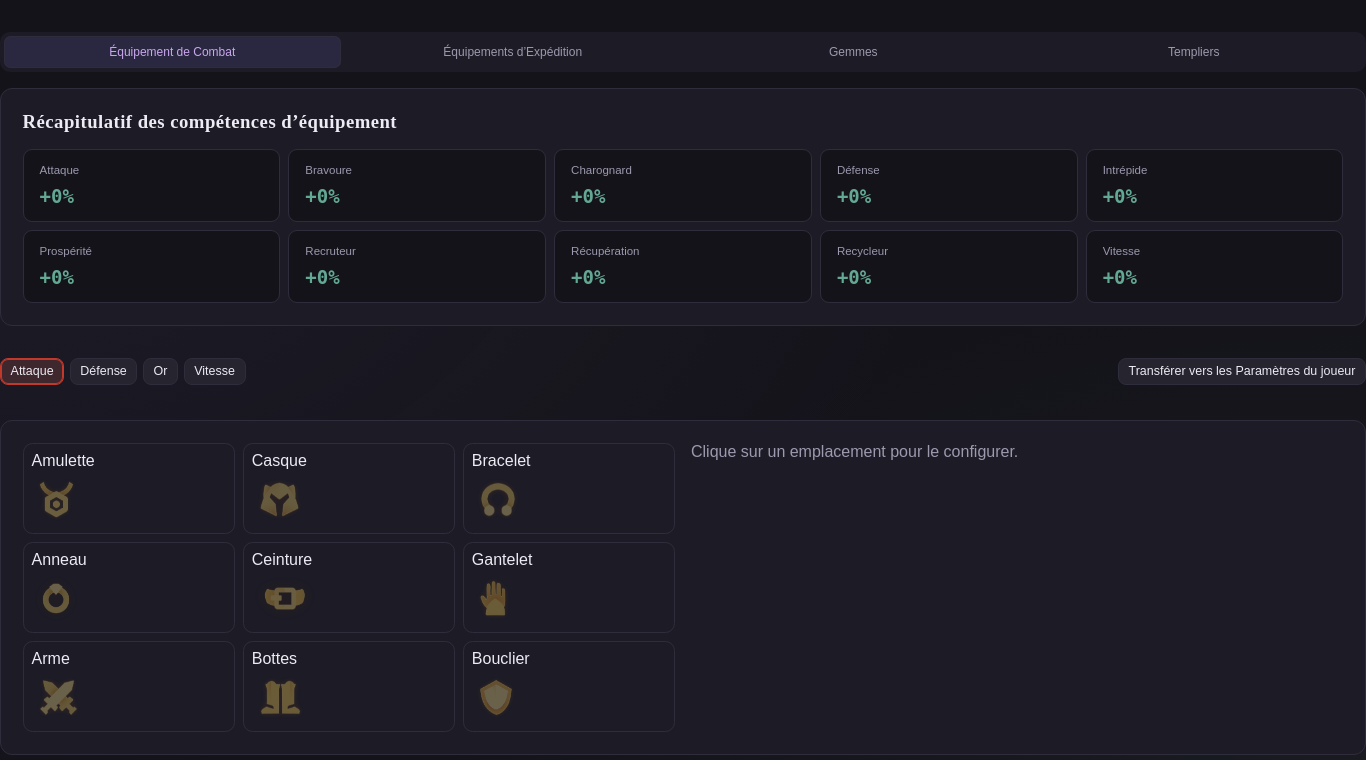
it: SkillsCalculators › uses the administrator-provided named Gem parameters
The width and height of the screenshot is (1366, 760).
Click the tab "Gemmes".
click(853, 52)  # box [685, 36, 1022, 68]
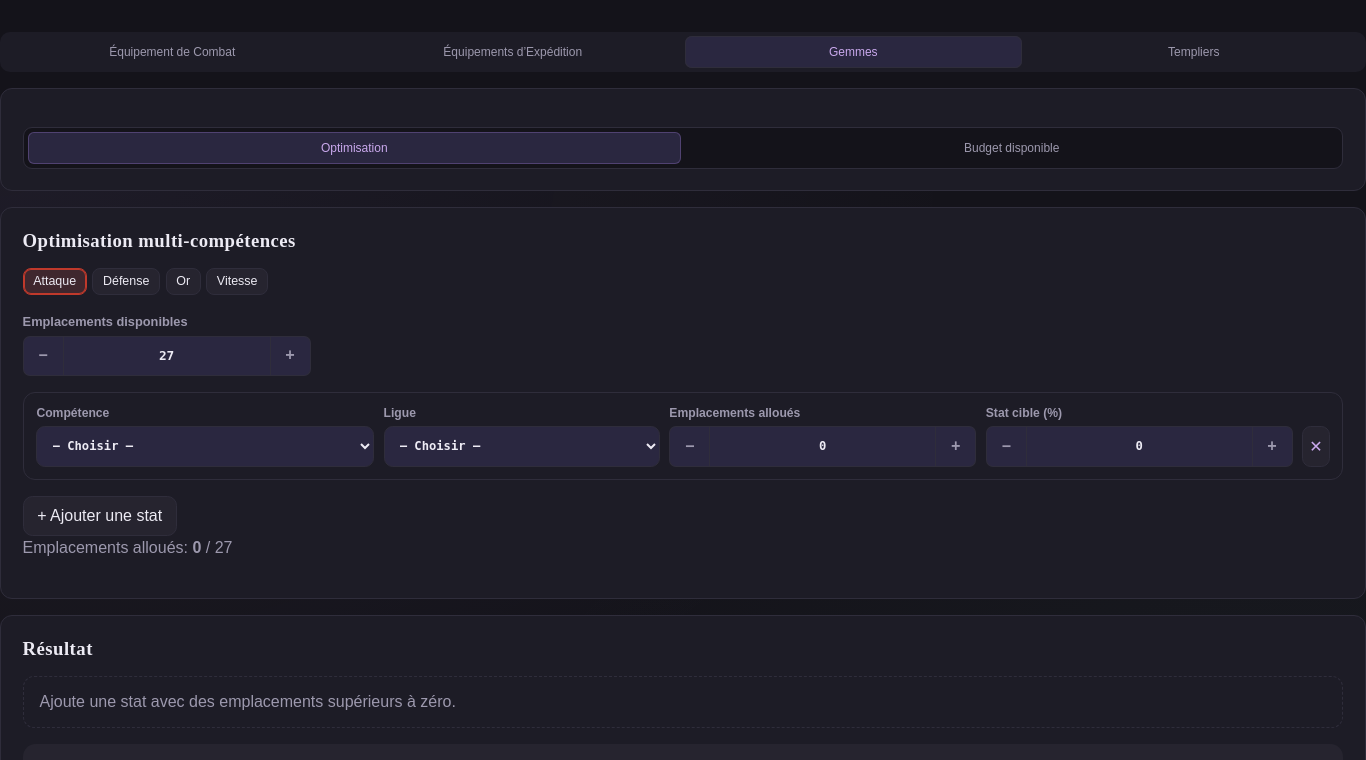
Note: Bloc 82/D: no skill pre-selected any more — pick one explicitly.
Select "Attaque" in the dropdown named "Compétence ligne 1" at (205, 446), box [36, 426, 374, 466]
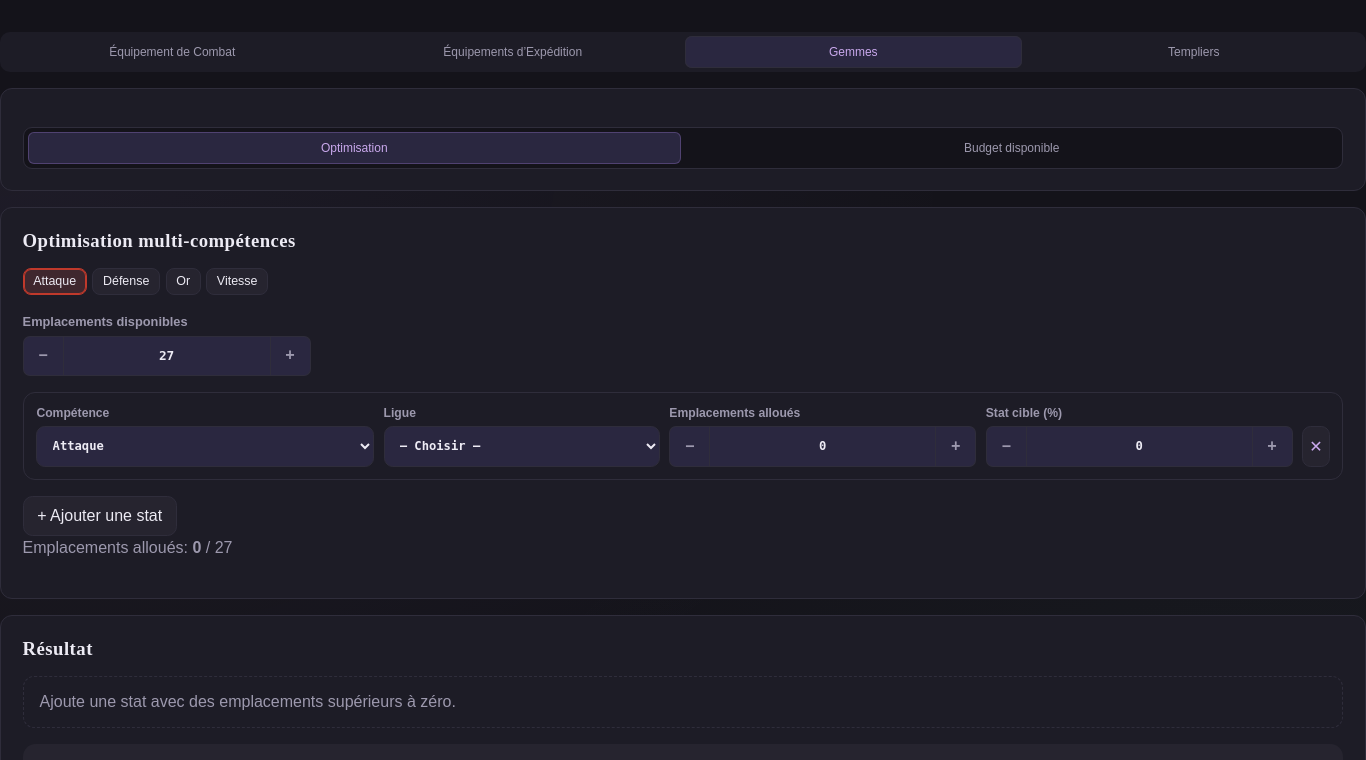
Select "Légende" in the dropdown named "Ligue ligne 1" at (522, 446), box [384, 426, 660, 466]
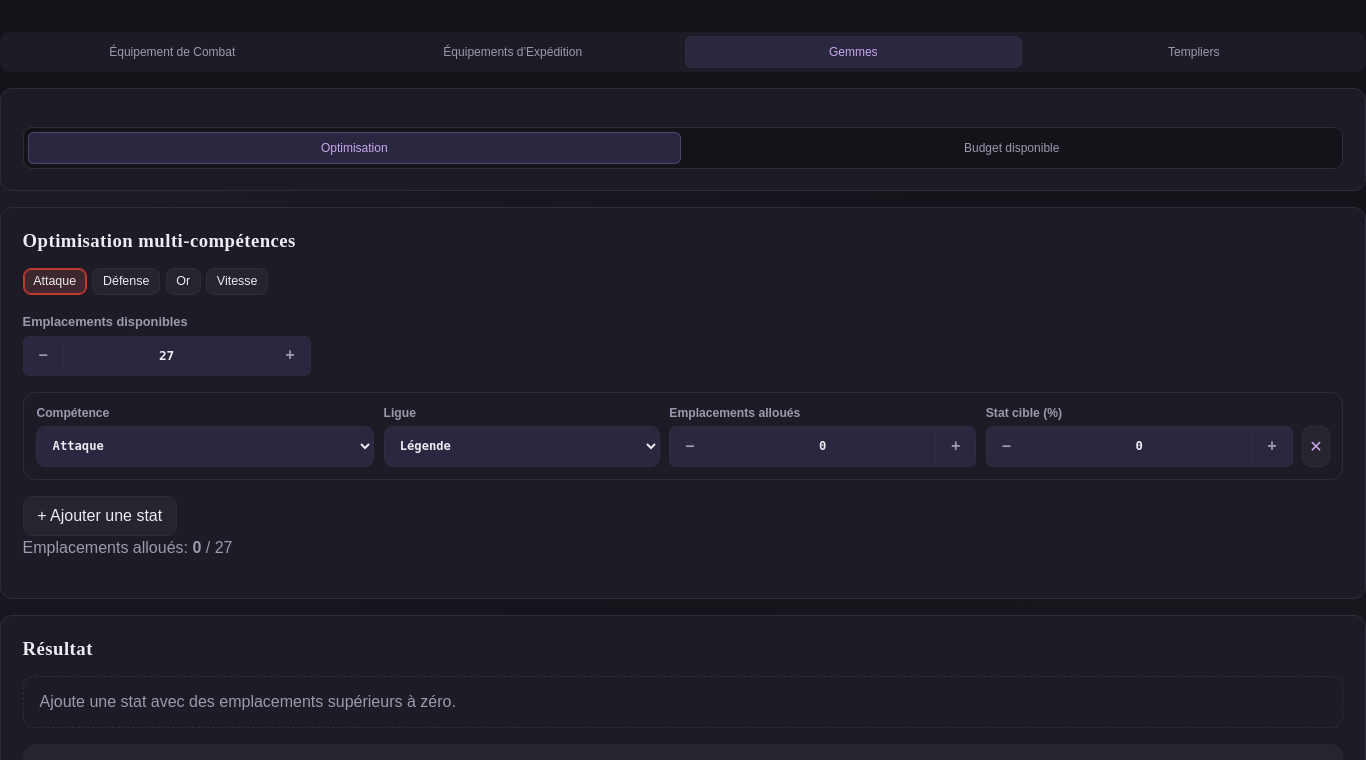
Replace the text in the number field named "Emplacements ligne 1" with "5" at (823, 446), box [709, 426, 936, 466]
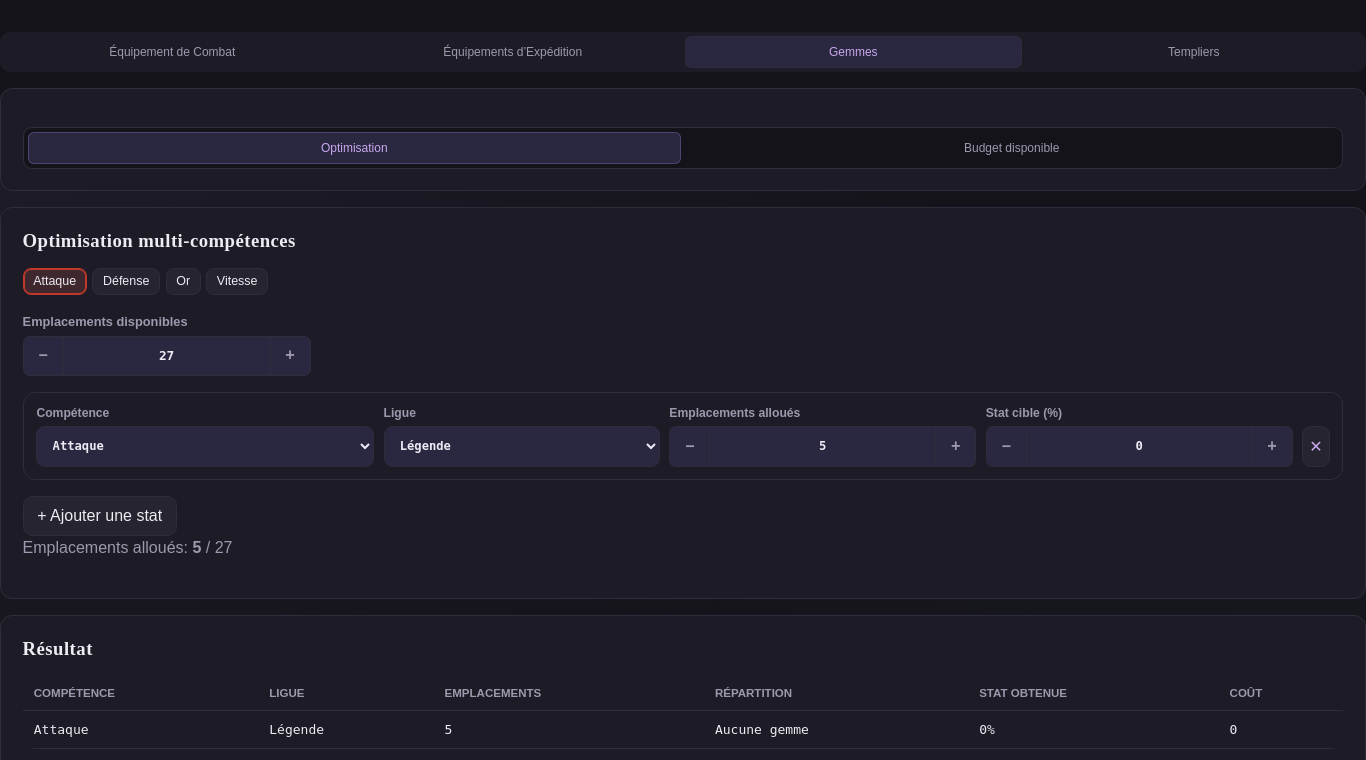
Replace the text in the number field named "Stat cible ligne 1" with "10" at (1139, 446), box [1026, 426, 1253, 466]
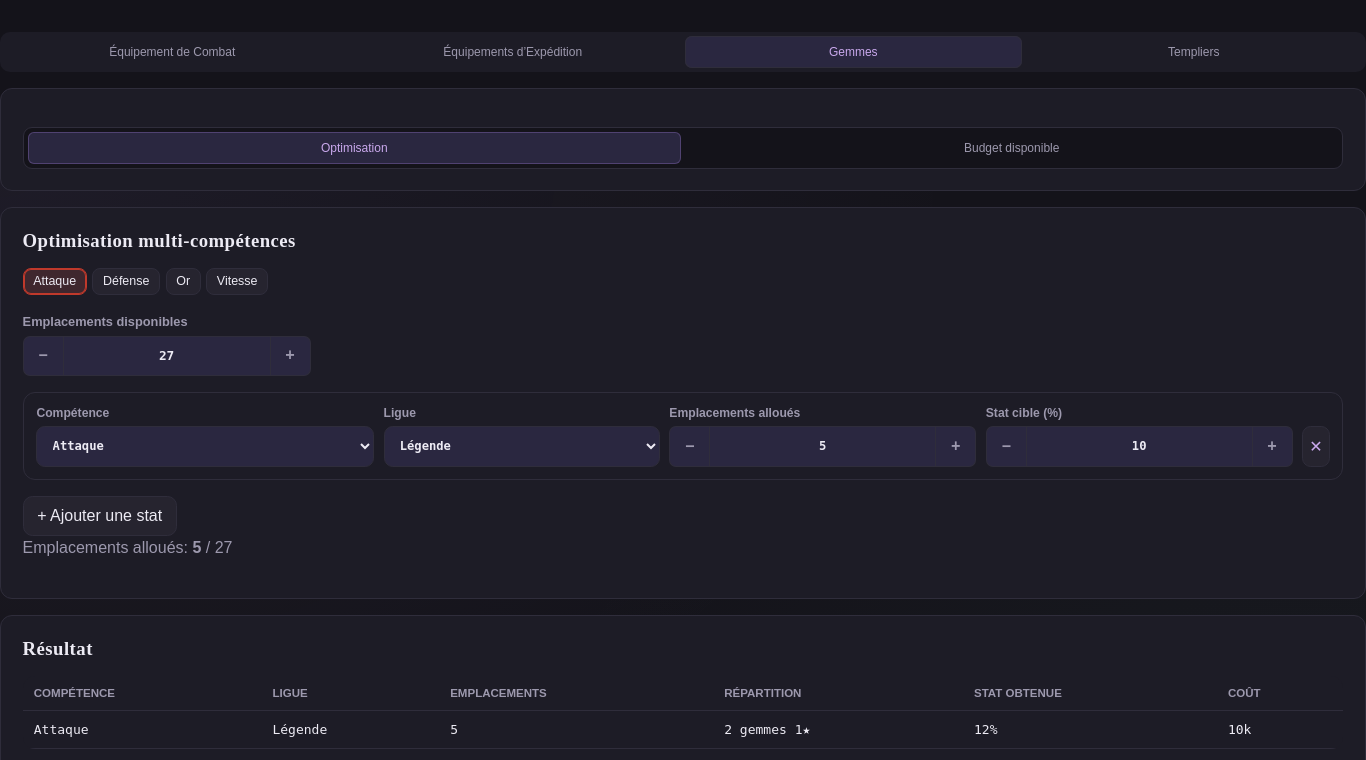
Result: the text "10k" is shown at [1217, 710, 1343, 749]
